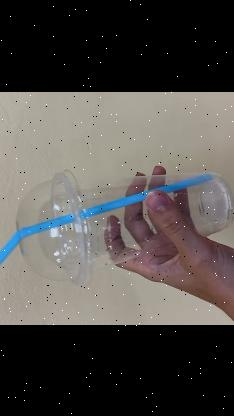Others: (0, 170, 233, 288)
